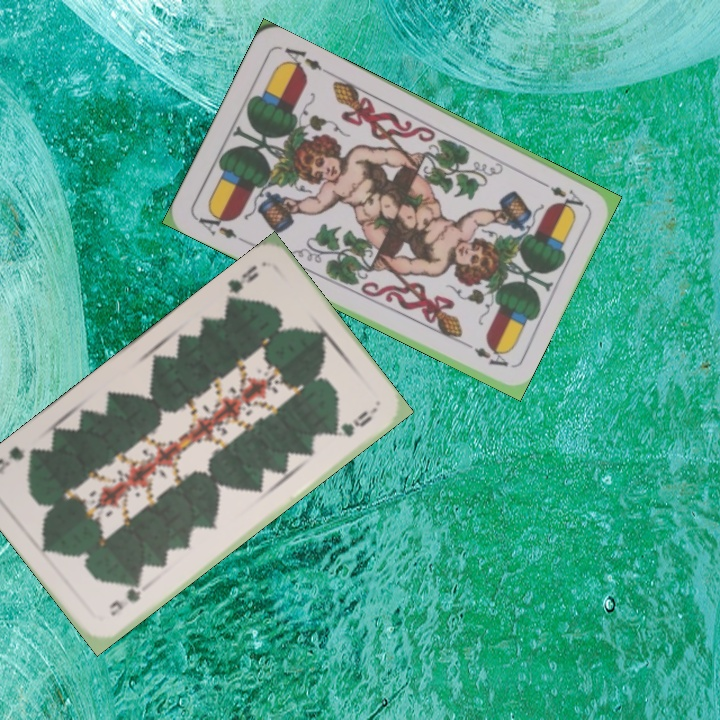EA: (191, 207, 247, 245), (546, 182, 587, 209)
G9: (222, 261, 262, 307), (105, 579, 144, 619)
